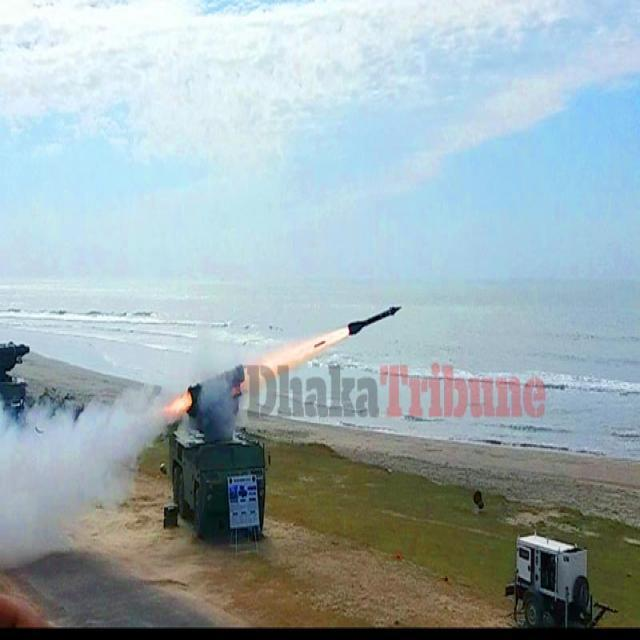Missile: (349, 296, 404, 341)
